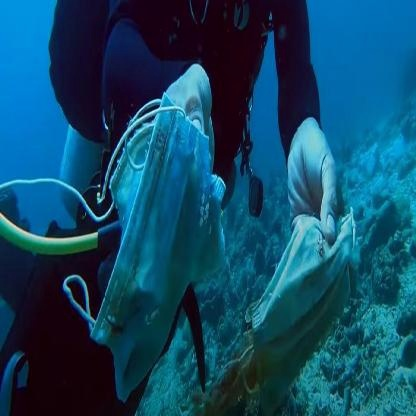Mask: (84, 97, 209, 399), (252, 216, 356, 405), (106, 128, 180, 246)
